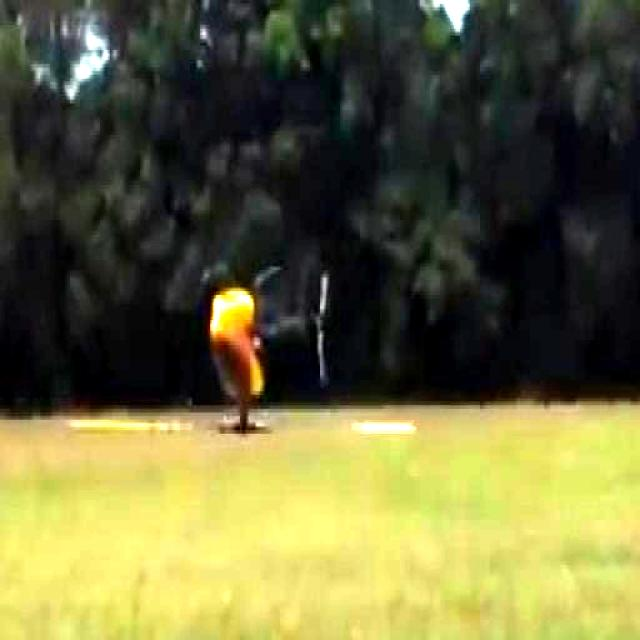drone: (138, 274, 341, 441)
